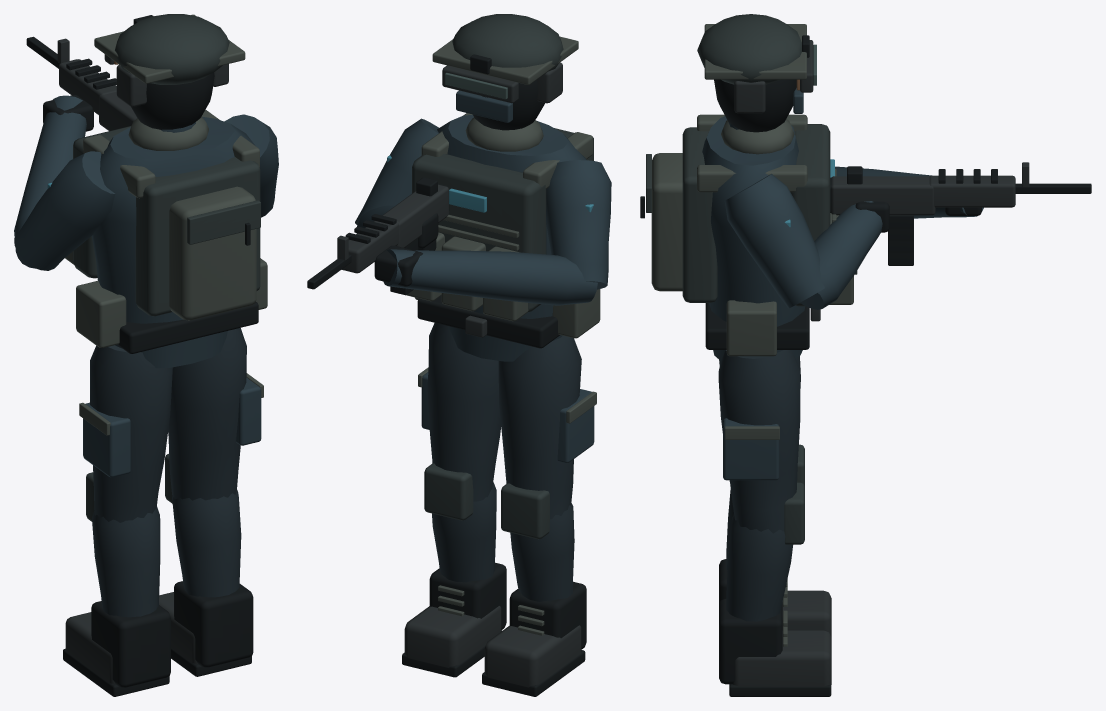
The model's file is ct_operator.glb.
3 views of the same model, side by side, from view 1: azimuth 30°, elevation 25°; view 2: azimuth 150°, elevation 25°; view 3: azimuth 270°, elevation 25° (orthographic). The views are drawn at different scales.
Visible parts, largest first — view 1: jacket_and_equipment, leg_l_shin, leg_r_shin, leg_l_thigh, leg_r_thigh, head_equipment, carbine; view 2: jacket_and_equipment, leg_l_shin, leg_r_shin, leg_l_thigh, head_equipment, leg_r_thigh, carbine; view 3: jacket_and_equipment, leg_r_shin, leg_r_thigh, head_equipment, carbine, leg_l_shin.
Part boxes in pixels (box(x1,y1,x2,y2)): jacket_and_equipment: box(14, 95, 278, 368); leg_l_shin: box(63, 472, 170, 696); leg_r_shin: box(159, 454, 253, 676); leg_l_thigh: box(79, 345, 172, 522); leg_r_thigh: box(168, 328, 263, 500); head_equipment: box(94, 14, 245, 132); carbine: box(26, 36, 137, 130); jacket_and_equipment: box(355, 113, 611, 361); leg_l_shin: box(482, 483, 586, 696); leg_r_shin: box(402, 463, 506, 677); leg_l_thigh: box(498, 335, 596, 519); head_equipment: box(432, 14, 578, 130); leg_r_thigh: box(418, 323, 501, 501); carbine: box(307, 177, 449, 295); jacket_and_equipment: box(640, 114, 983, 360); leg_r_shin: box(719, 482, 831, 696); leg_r_thigh: box(718, 350, 800, 533); head_equipment: box(697, 14, 816, 132); carbine: box(830, 162, 1091, 265); leg_l_shin: box(719, 444, 831, 637).
Size of the model in its own units: 0.7453 by 1.82 by 1.16.
